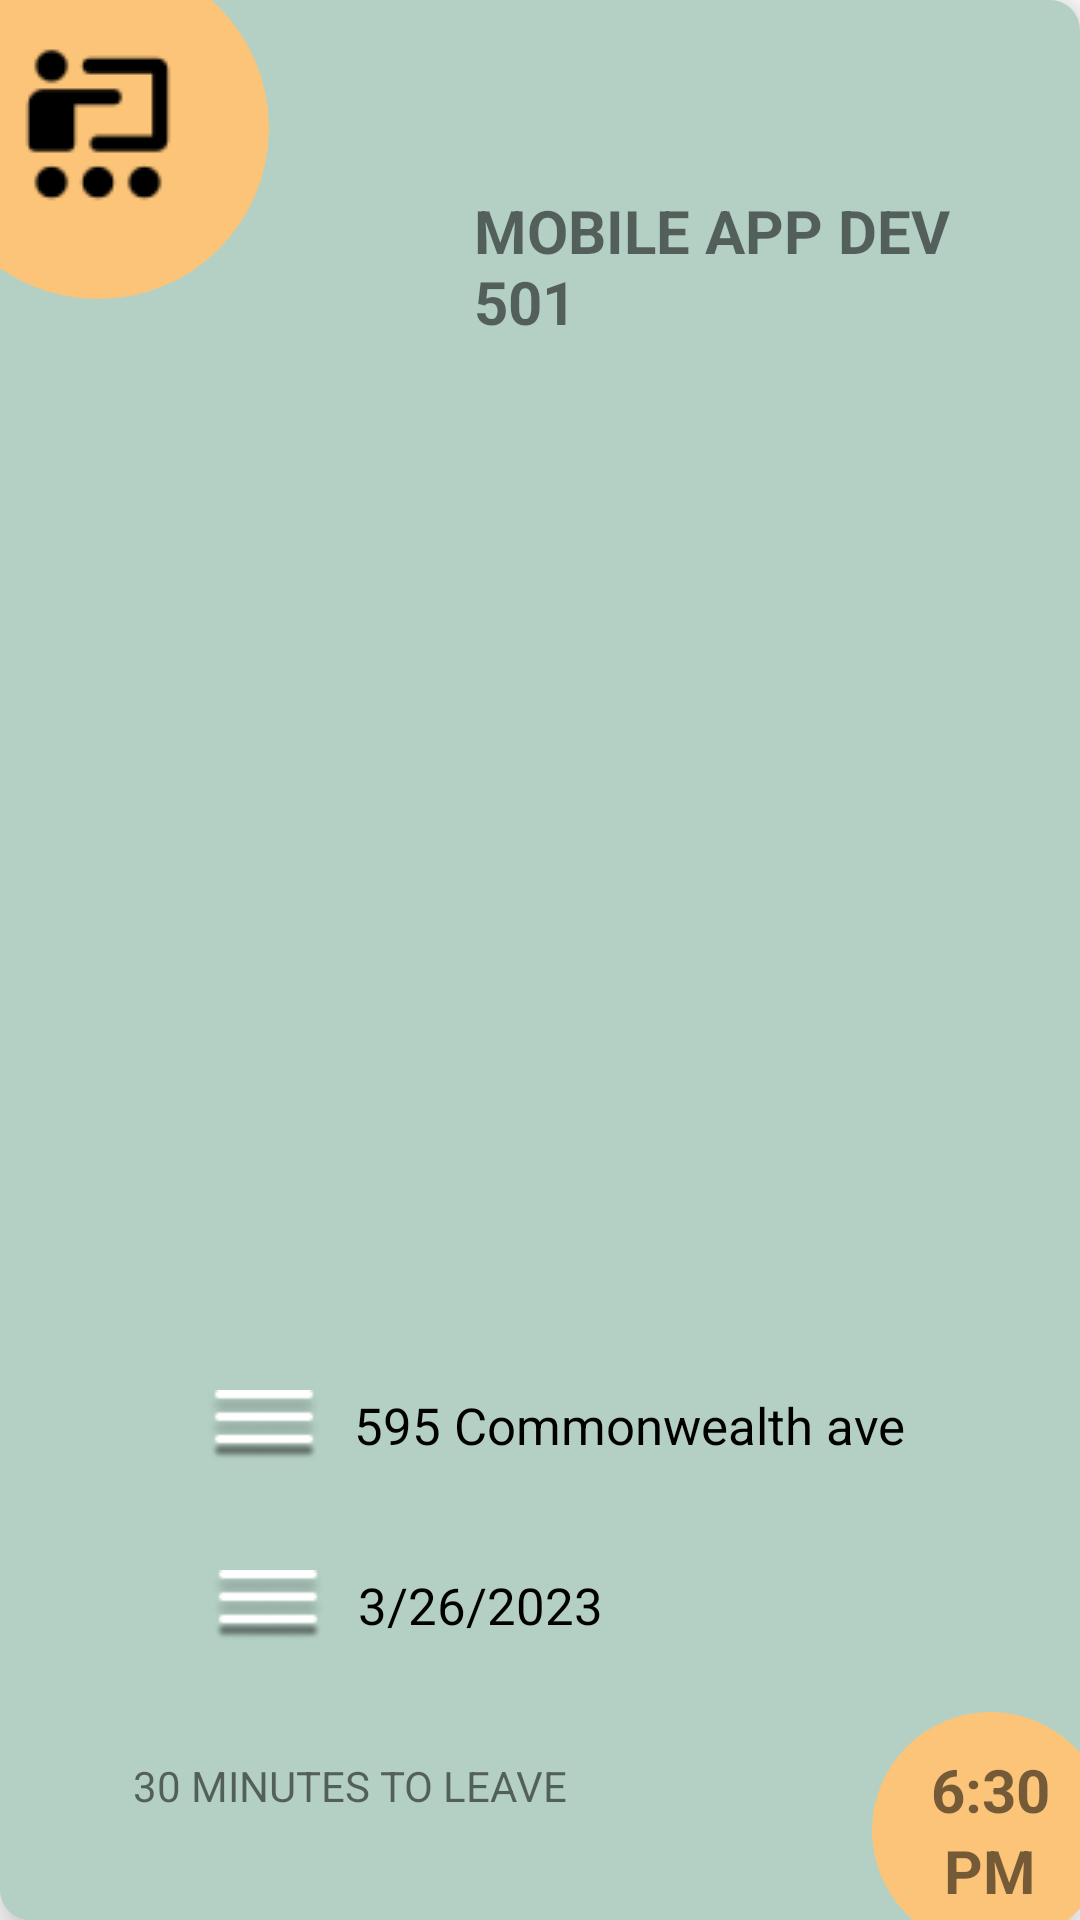

Point at icon controls on the screen. Image size 1080×1920, points as (x,y).
hamburger: (264,1423), (268,1603)
lecture: (98,124)
